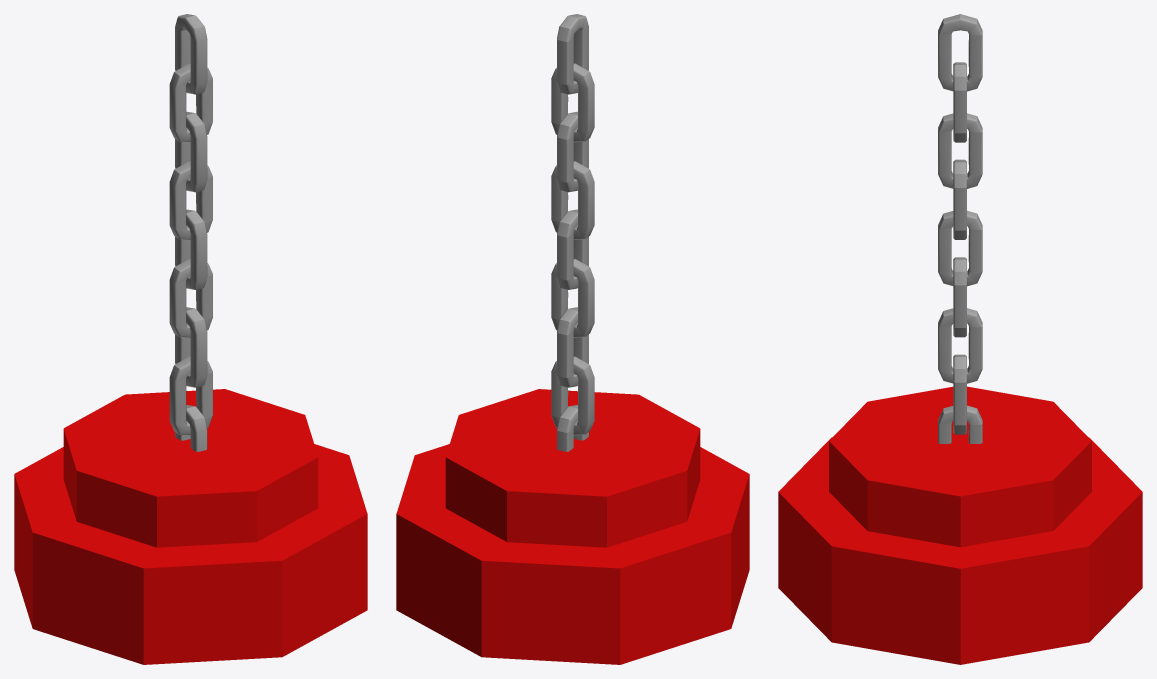
The model's file is cg_PlayerHelicopter_Magnet.fbx.
3 renders of one model, left to right at view 1: azimuth 30°, elevation 25°; view 2: azimuth 150°, elevation 25°; view 3: azimuth 270°, elevation 25°, orthographic.
Visible parts, largest first — view 1: pCylinder14, MASH1_ReproMesh1; view 2: pCylinder14, MASH1_ReproMesh1; view 3: pCylinder14, MASH1_ReproMesh1.
Boxes of the visible parts, x1,y1,x2,y2 form: pCylinder14: (14, 389, 367, 664); MASH1_ReproMesh1: (169, 14, 212, 451); pCylinder14: (396, 389, 749, 664); MASH1_ReproMesh1: (551, 14, 594, 451); pCylinder14: (778, 386, 1142, 664); MASH1_ReproMesh1: (938, 14, 982, 443).
Size of the model in its own units: 217 by 385 by 217.
